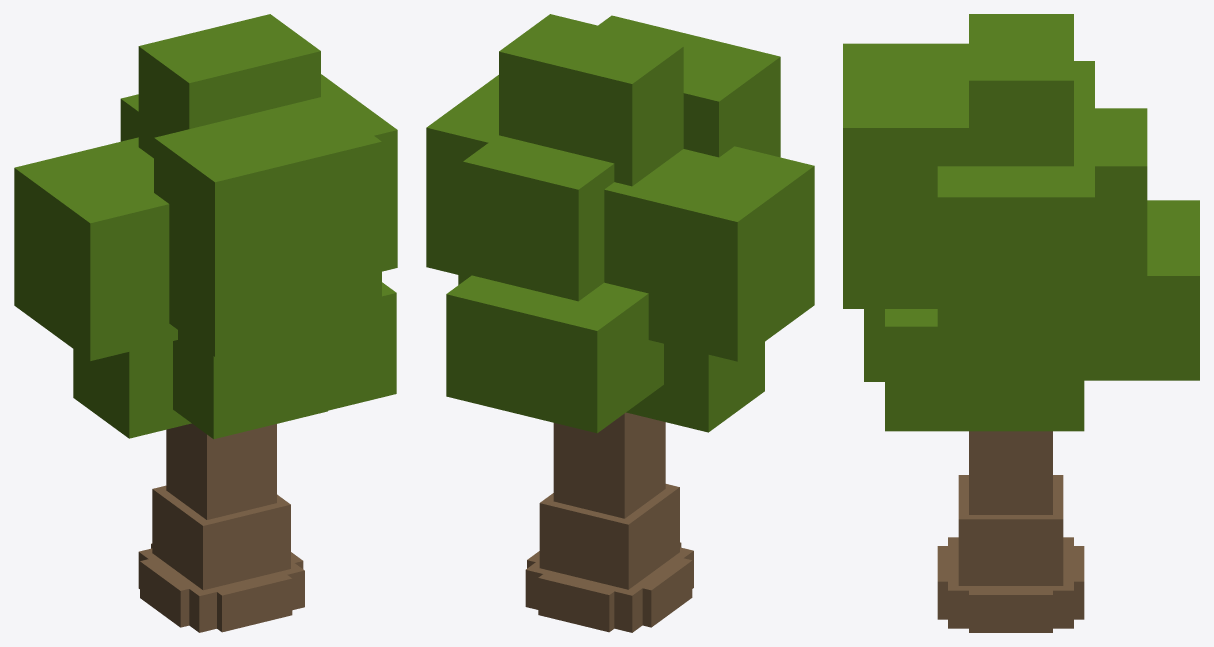
The model's file is tree_3.gltf.
3 views of the same model, side by side, from view 1: azimuth 30°, elevation 25°; view 2: azimuth 150°, elevation 25°; view 3: azimuth 270°, elevation 25° (orthographic). The views are drawn at different scales.
Parts seen in each view (by area): view 1: Node1; view 2: Node1; view 3: Node1.
Boxes of the visible parts, x1,y1,x2,y2 form: Node1: (14,14,397,632); Node1: (426,14,814,632); Node1: (843,14,1199,632).
Size of the model in its own units: 7 by 11.8 by 6.8.
1 material, 1 textured.
